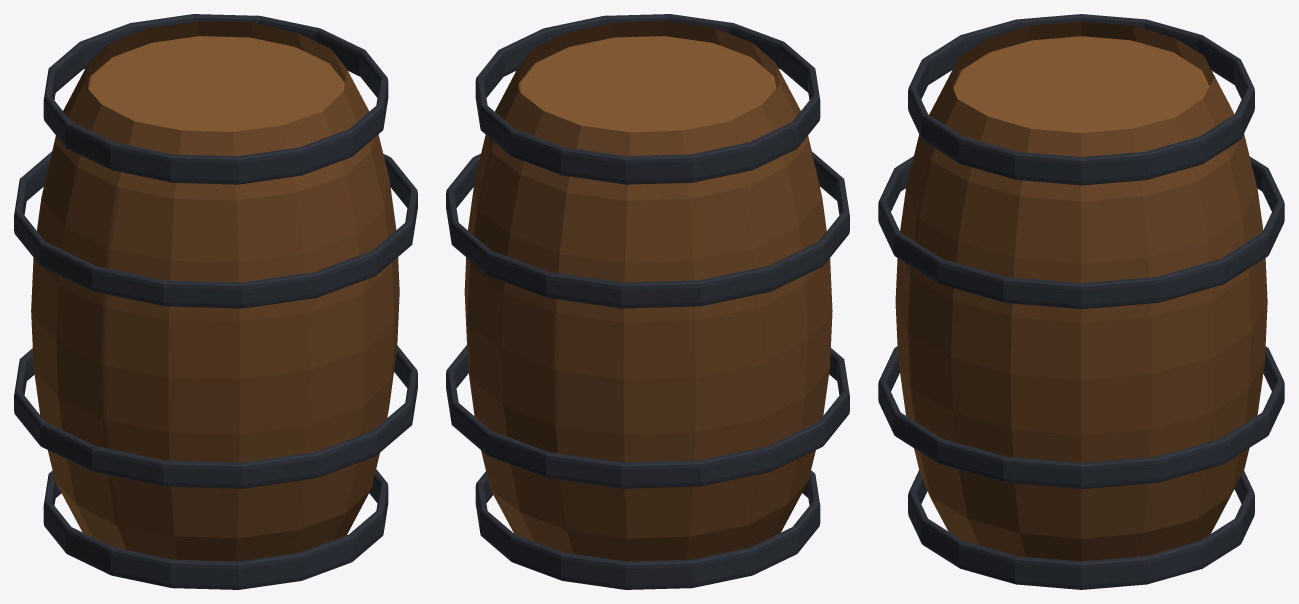
The model's file is barrel_after.glb.
3 renders of one model, left to right at view 1: azimuth 30°, elevation 25°; view 2: azimuth 150°, elevation 25°; view 3: azimuth 270°, elevation 25°, orthographic.
Parts seen in each view (by area): view 1: SM_Barrel; view 2: SM_Barrel; view 3: SM_Barrel.
Boxes of the visible parts, left/top/right/bottom form: SM_Barrel: left=14, top=14, right=417, bottom=589; SM_Barrel: left=446, top=14, right=849, bottom=589; SM_Barrel: left=878, top=14, right=1284, bottom=589.
Bounding box in the file's own units: 0.7789 × 0.95 × 0.7789.
